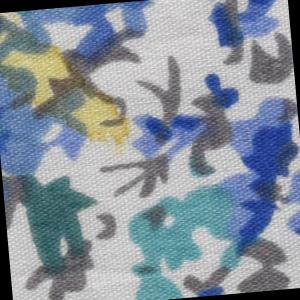Oil Stain: (1, 3, 136, 169)
